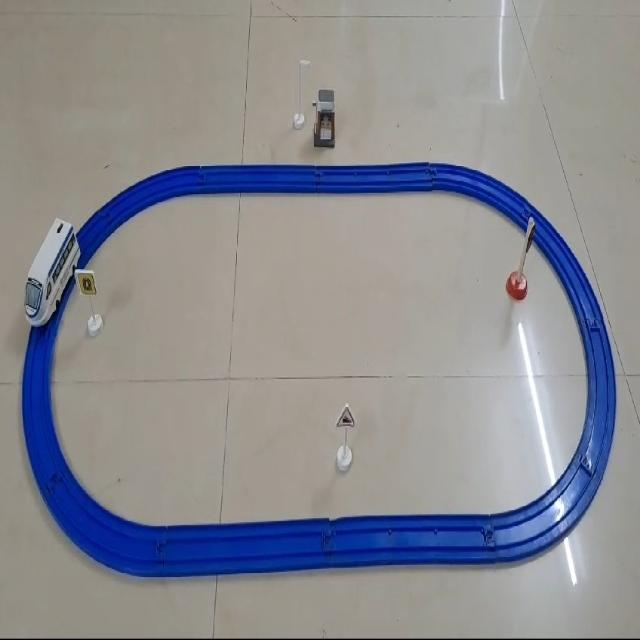bus: (23, 216, 81, 326)
